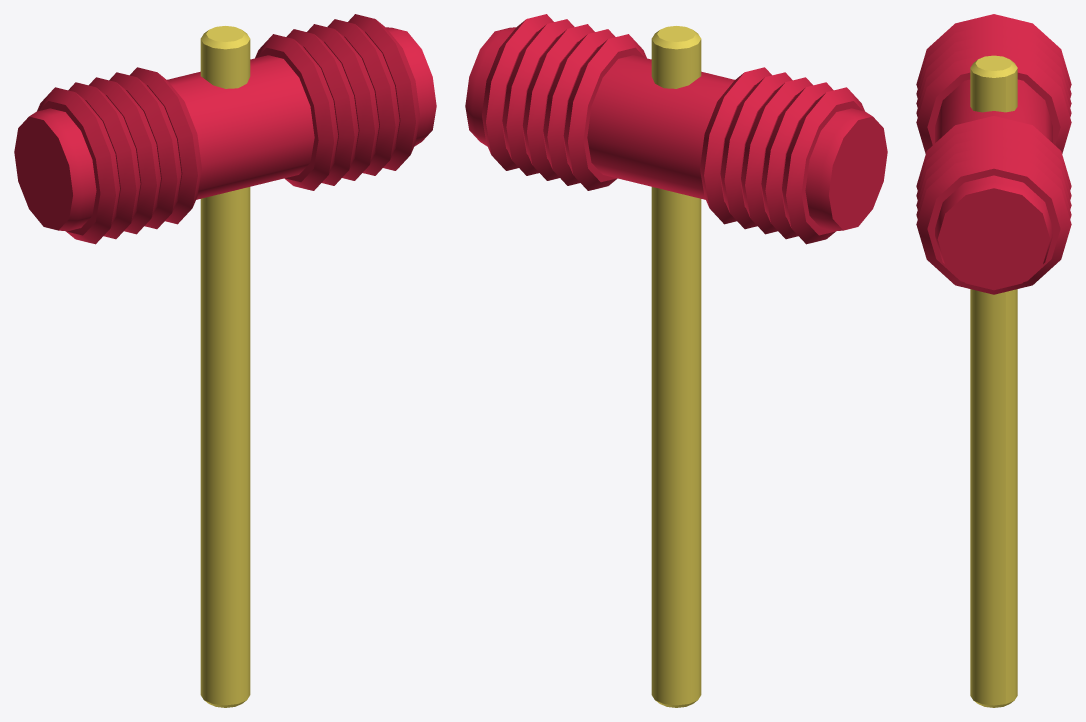
The model's file is hammer (1).fbx.
3 views of the same model, side by side, from view 1: azimuth 30°, elevation 25°; view 2: azimuth 150°, elevation 25°; view 3: azimuth 270°, elevation 25° (orthographic). The views are drawn at different scales.
Visible parts, largest first — view 1: Hammer, HammerUp; view 2: Hammer, HammerUp; view 3: Hammer, HammerUp.
Boxes of the visible parts, x1,y1,x2,y2 form: Hammer: [14, 14, 436, 244]; HammerUp: [200, 26, 250, 707]; Hammer: [465, 14, 887, 244]; HammerUp: [651, 26, 701, 707]; Hammer: [916, 14, 1071, 294]; HammerUp: [970, 55, 1017, 707].
Size of the model in its own units: 2 by 3.5 by 0.7737.
